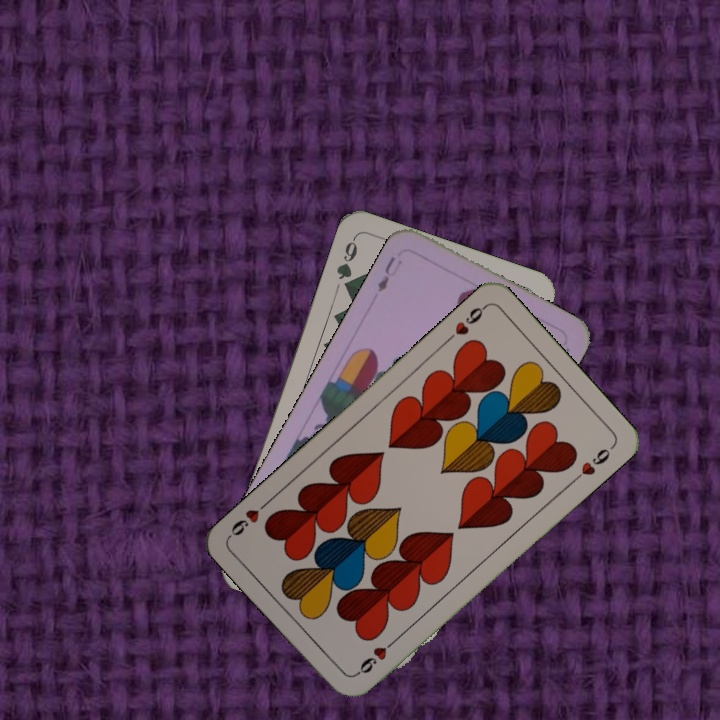EU: (373, 252, 405, 295)
G9: (332, 233, 360, 294)
H9: (441, 301, 490, 345), (351, 635, 400, 678)
